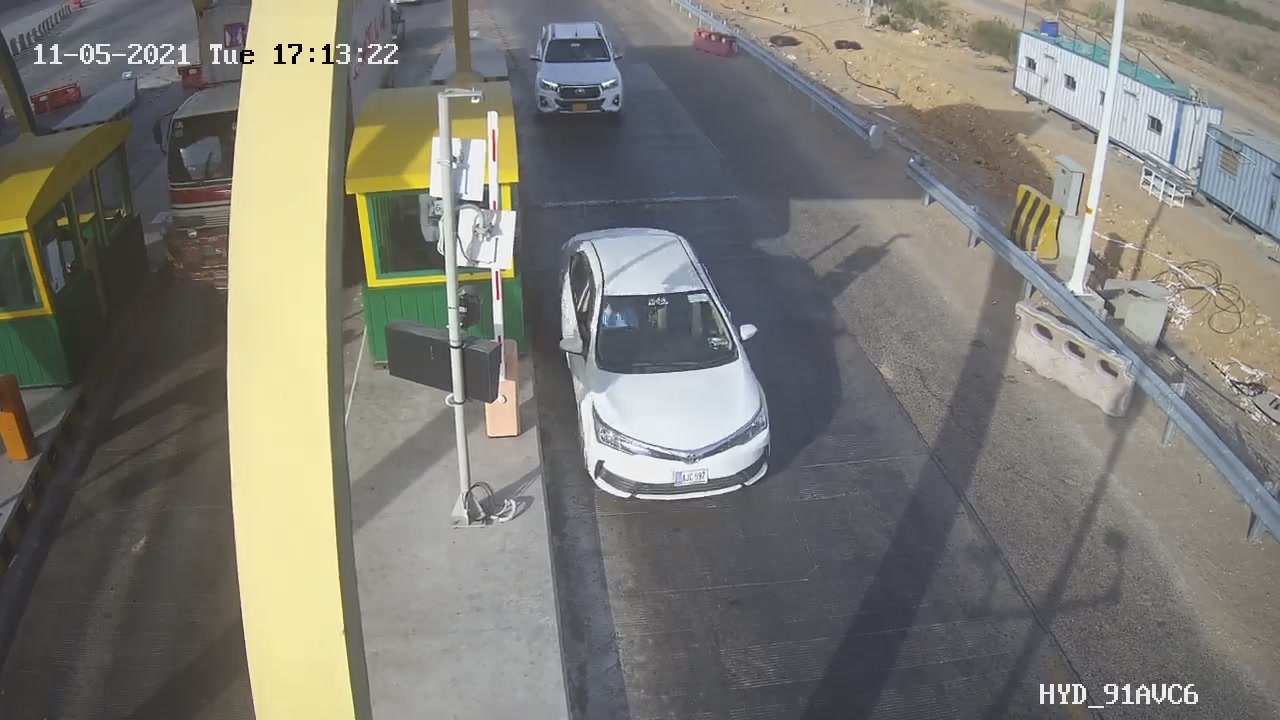F1: (530, 211, 807, 529), (518, 7, 644, 134)
